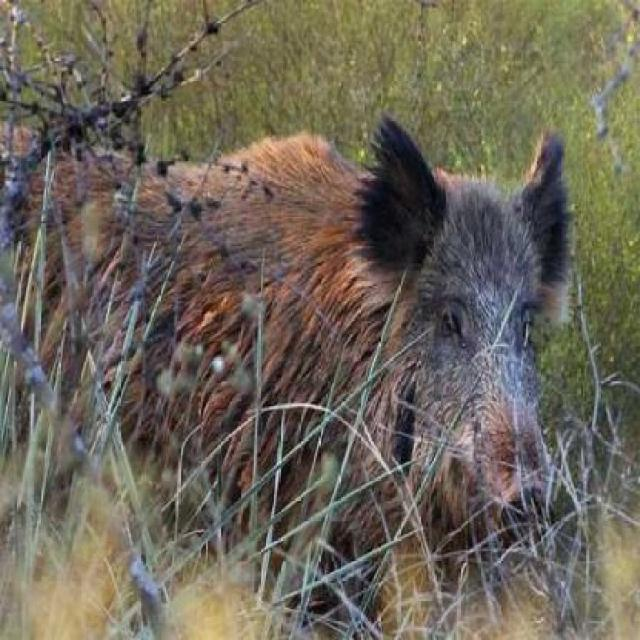pig: (46, 116, 639, 570)
